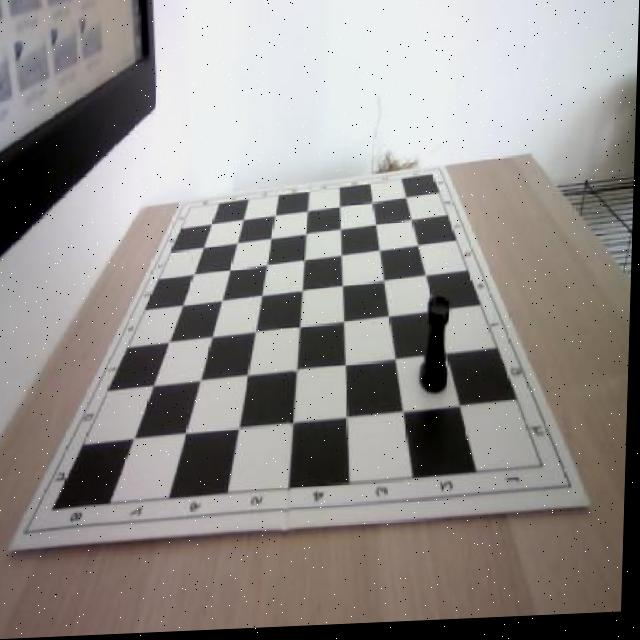black-queen: (420, 299, 456, 399)
